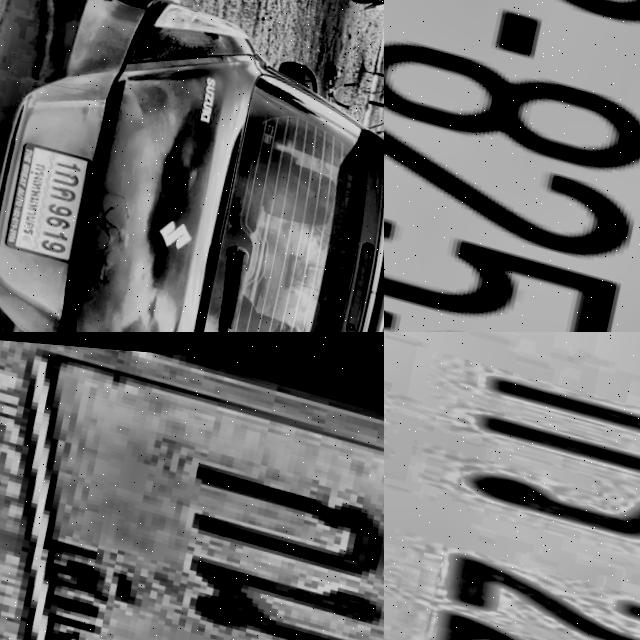license-plate: (0, 332, 384, 640), (384, 0, 640, 332), (384, 332, 640, 640), (6, 138, 97, 261)
